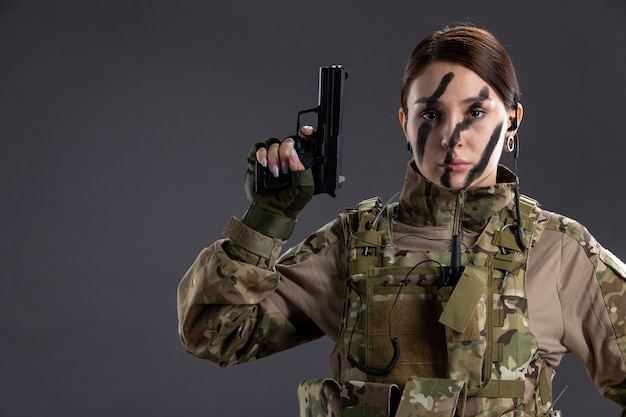gun: (254, 62, 347, 199)
